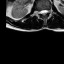CCS_normal: (42, 6, 45, 17)
LFS_normal: (48, 7, 50, 15)
LLS_normal: (45, 7, 48, 16)
RFS_normal: (38, 8, 40, 16)
RLS_normal: (40, 8, 42, 16)
